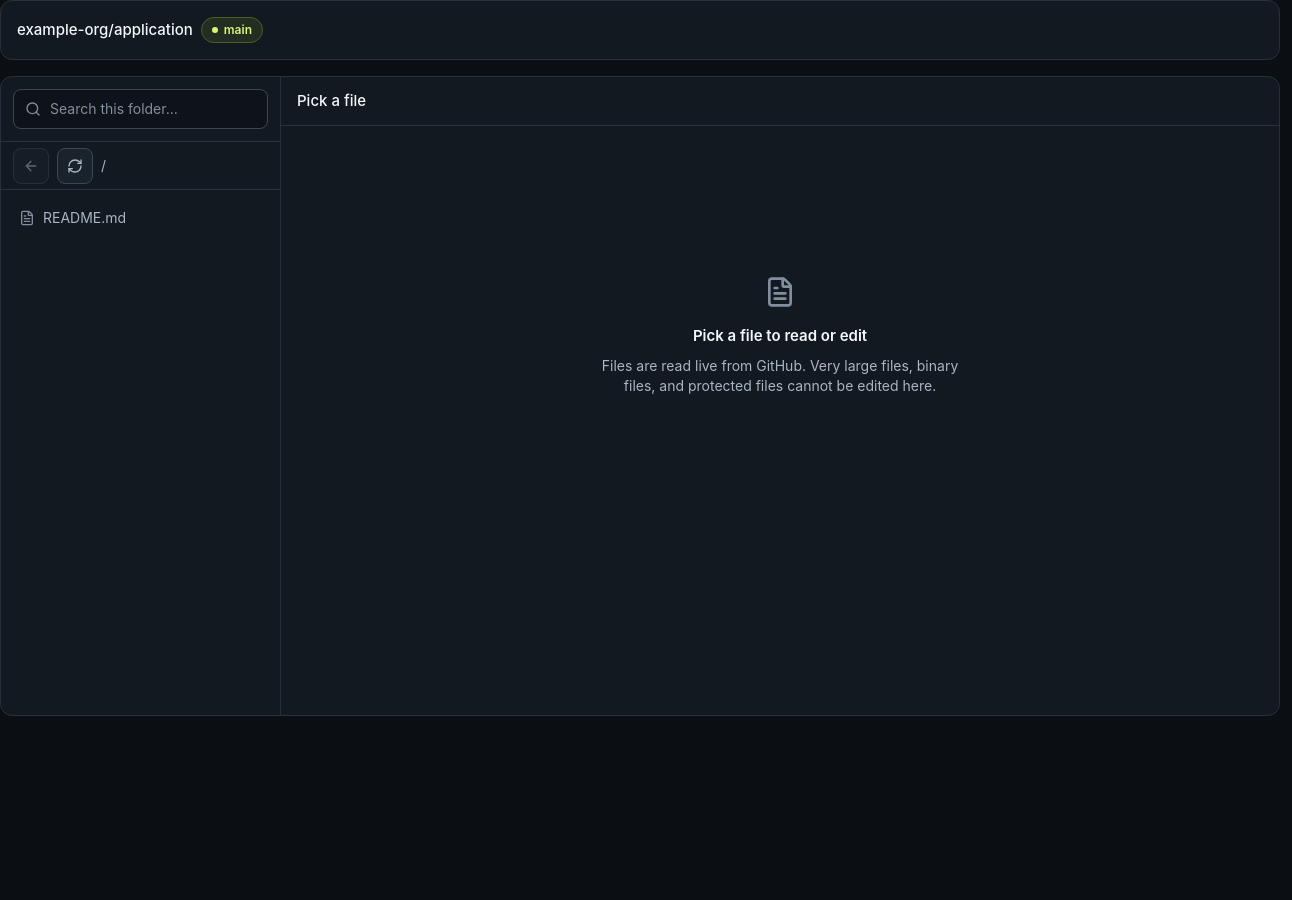
it: GitHubFileManager › reuses one idempotency key after an ambiguous save failure
This screenshot has width=1292, height=900.
Click the button "README.md" at (85,218), box [9, 198, 272, 238]
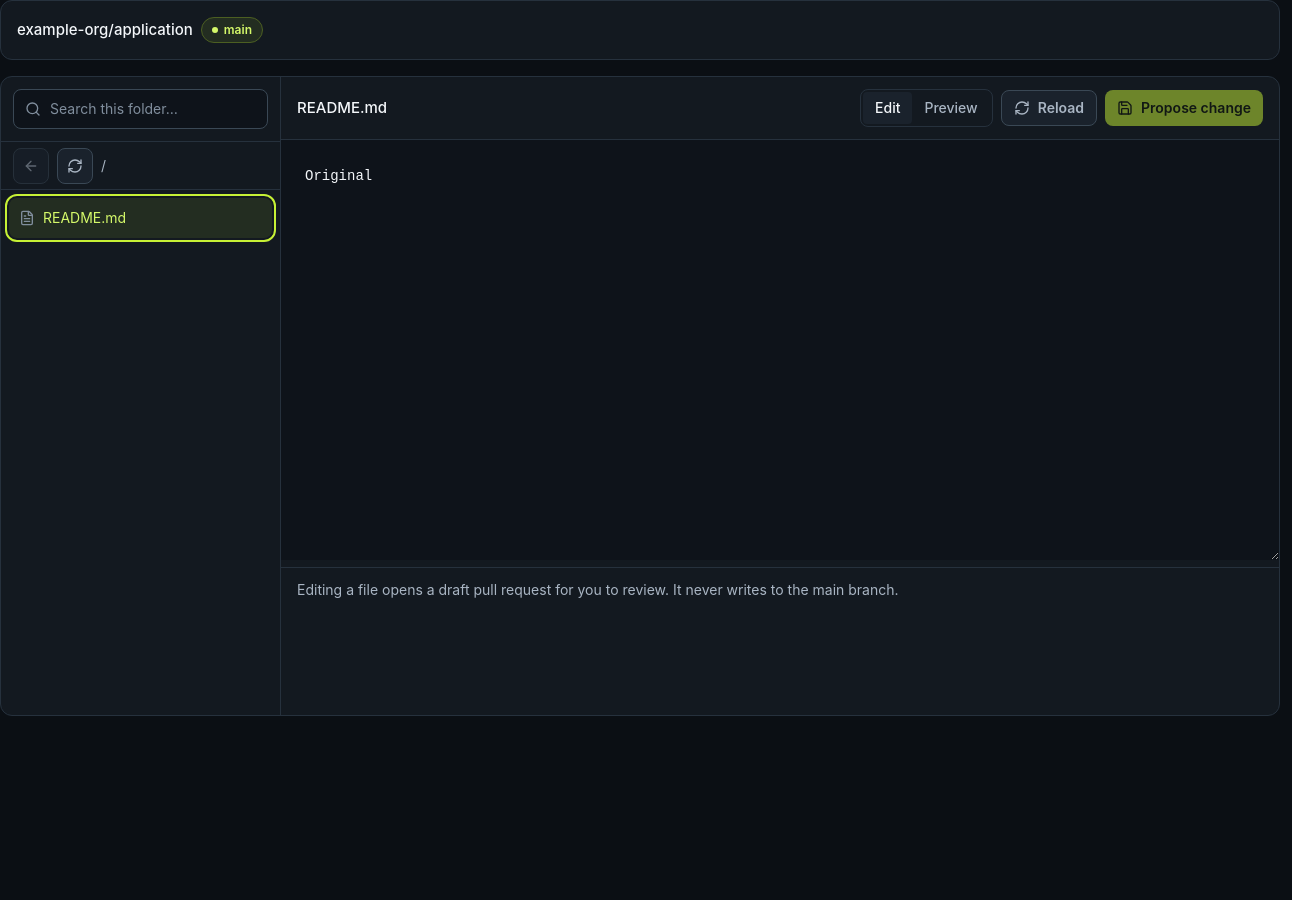
Replace the text in the text box named "Edit README.md" with "Changed" at (780,350), box [281, 140, 1279, 560]
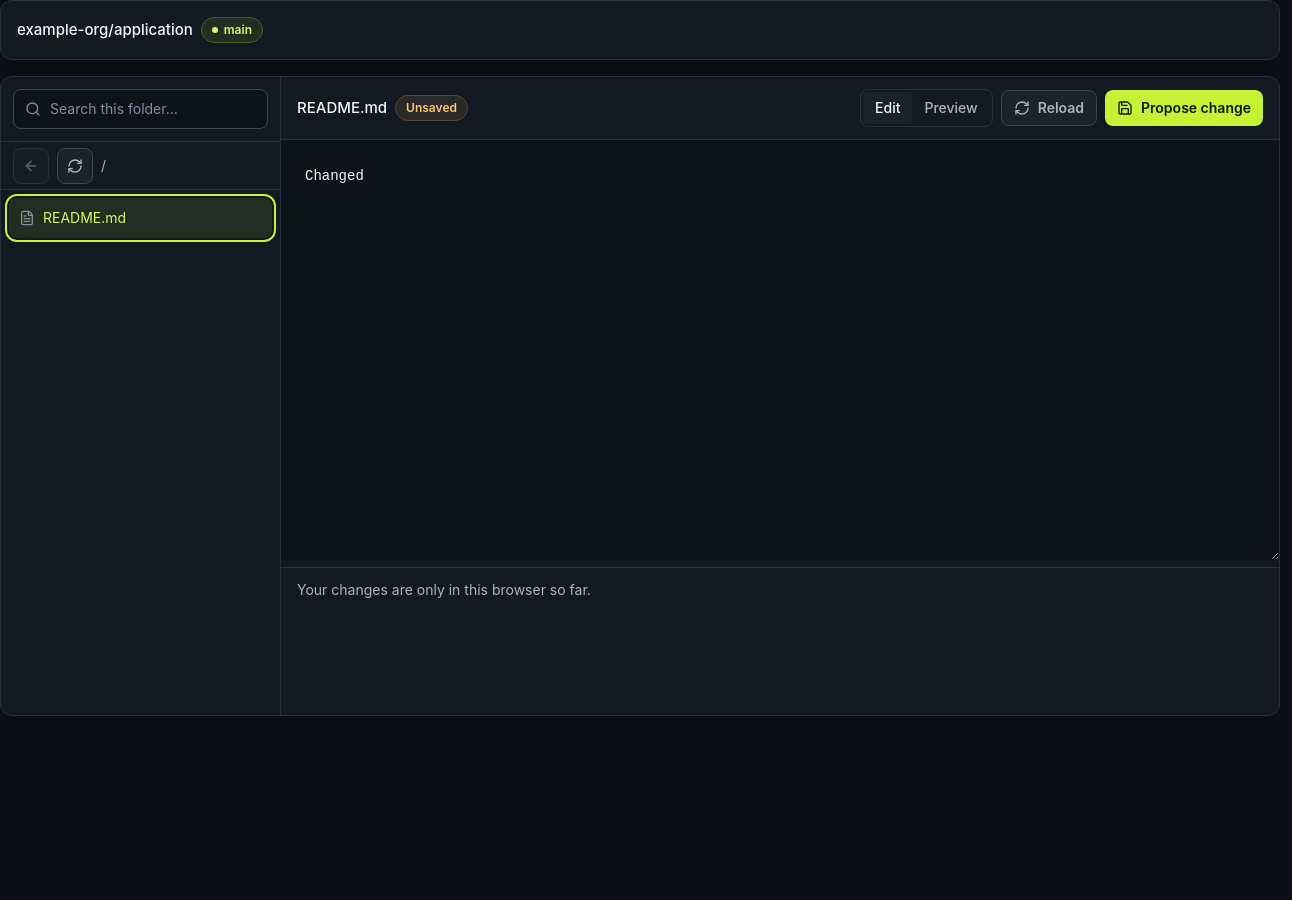
Click the button "Propose change" at (1184,108), box [1105, 90, 1263, 126]
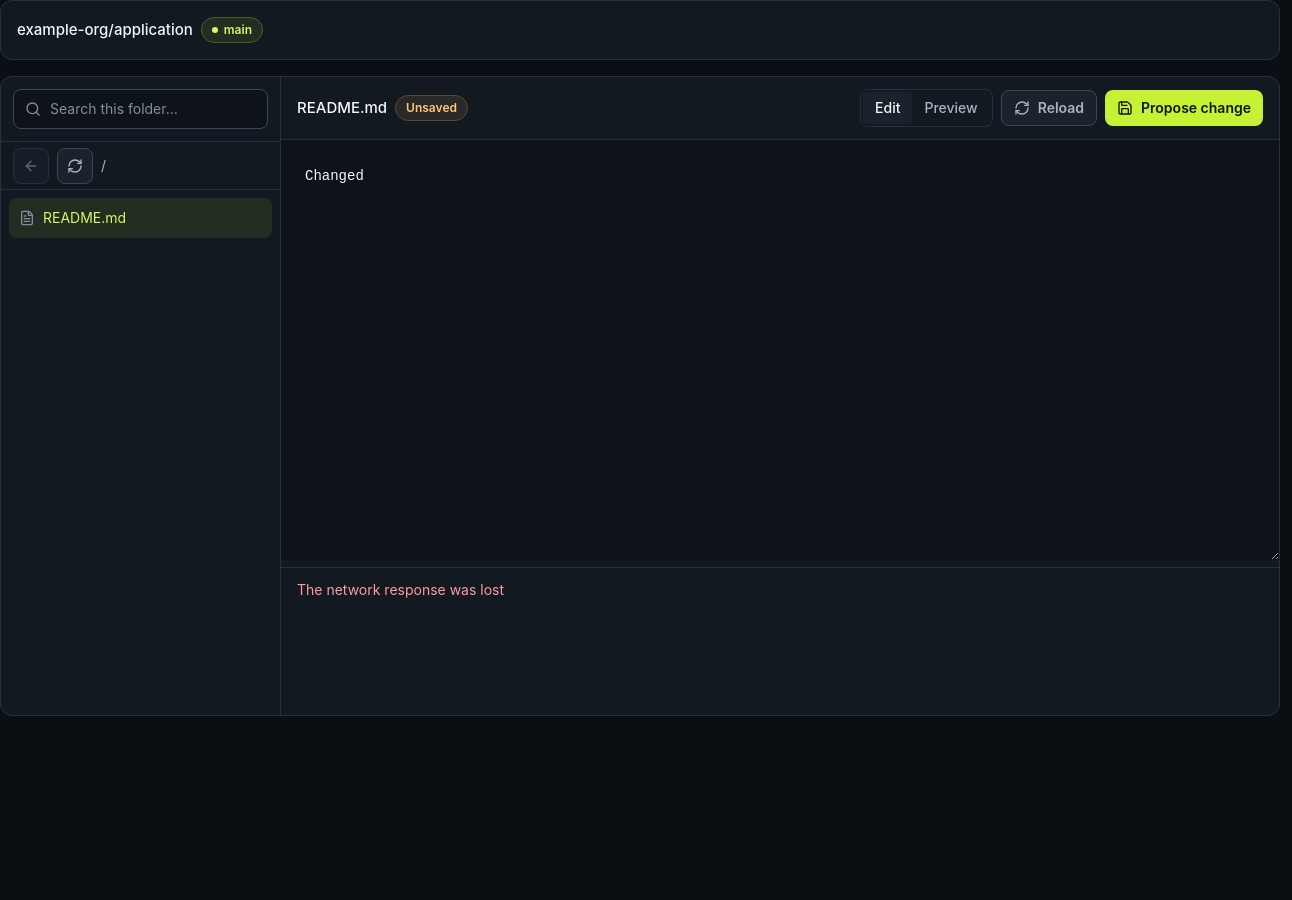
Expected: the text "The network response was lost" is shown, [297, 580, 504, 600]
Click the button "Propose change" at (1184,108), box [1105, 90, 1263, 126]
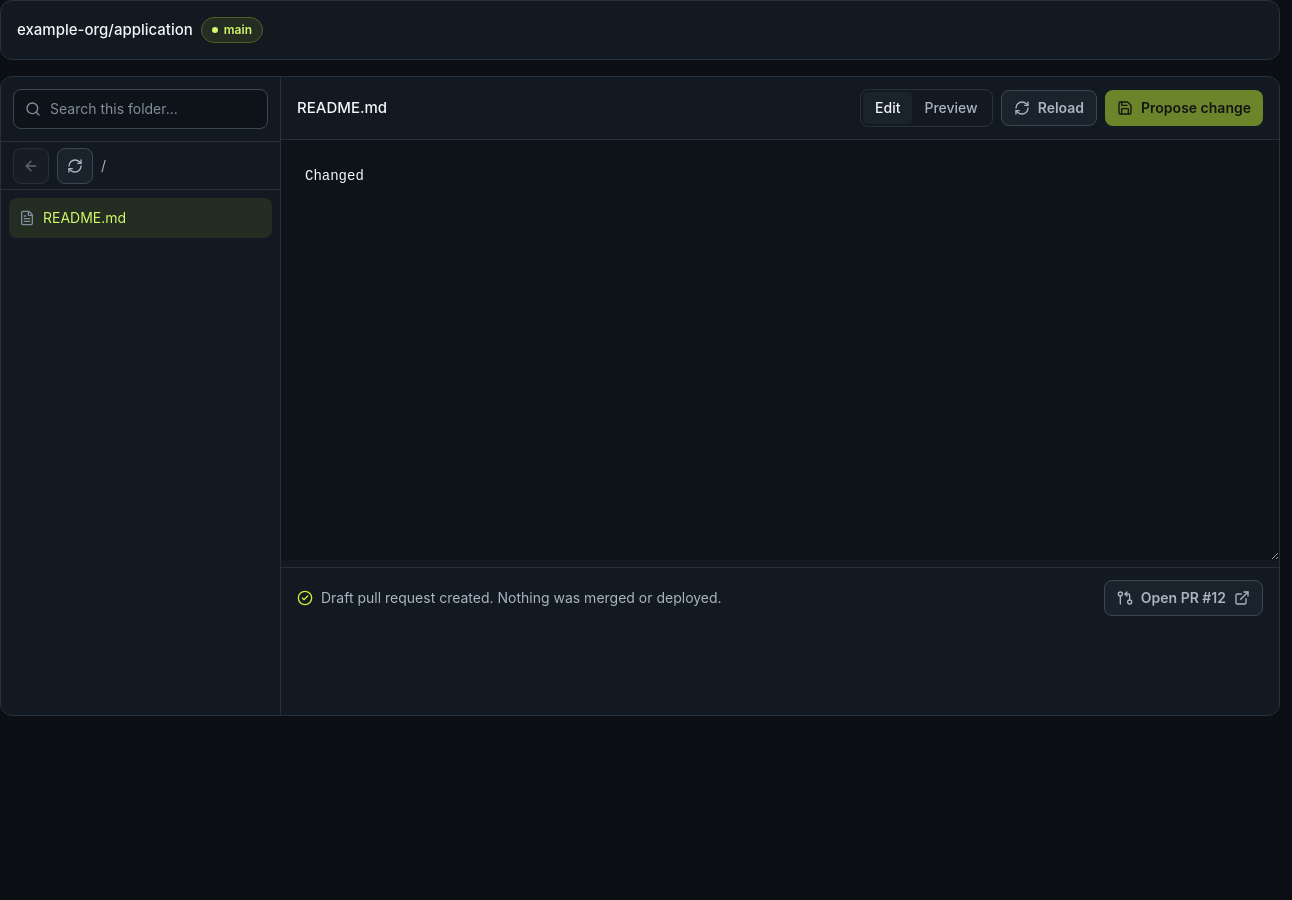
Expected: the link "Open PR #12" is shown, [1104, 580, 1263, 616]
